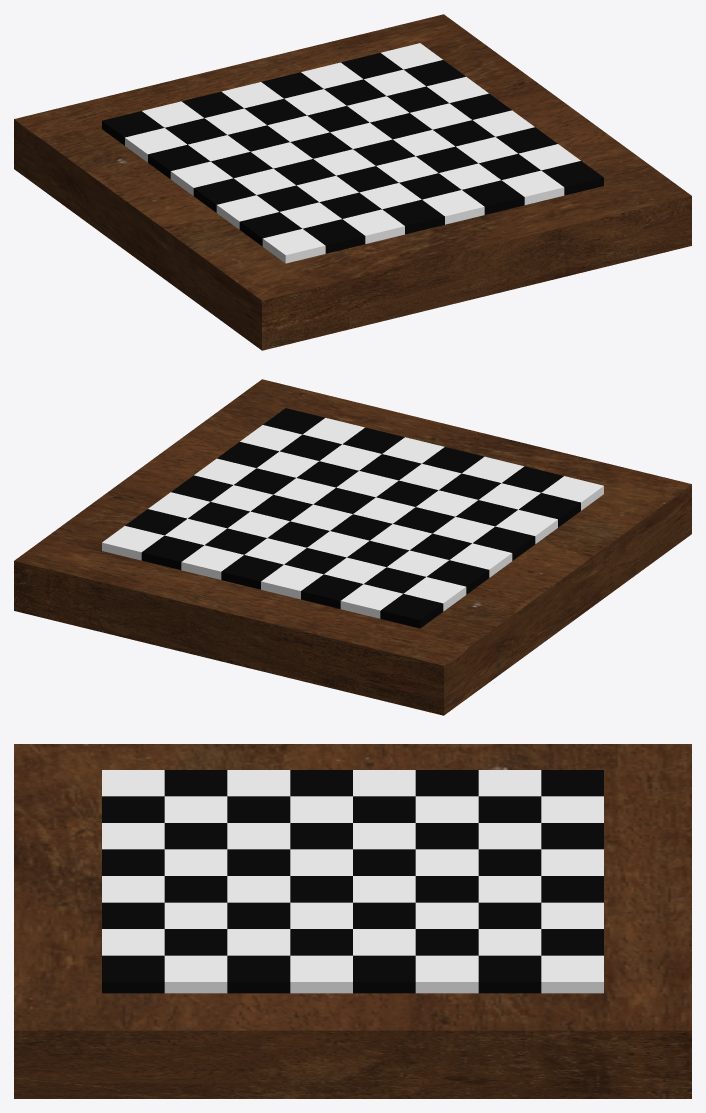
File: lison_chessboard.obj
3 renders of one model, top to bottom at view 1: azimuth 30°, elevation 25°; view 2: azimuth 150°, elevation 25°; view 3: azimuth 270°, elevation 25°, orthographic. The views are drawn at different scales.
Parts seen in each view (by area): view 1: Chessboard_Wood, Chessboard_case_noir, Chessboard_case_blanche; view 2: Chessboard_Wood, Chessboard_case_blanche, Chessboard_case_noir; view 3: Chessboard_Wood, Chessboard_case_noir, Chessboard_case_blanche.
Part boxes in pixels (x1,y1,x2,y2): Chessboard_Wood: (14,14,691,350); Chessboard_case_noir: (102,53,603,253); Chessboard_case_blanche: (125,43,580,263); Chessboard_Wood: (14,379,691,715); Chessboard_case_blanche: (102,418,603,618); Chessboard_case_noir: (125,408,580,628); Chessboard_Wood: (14,744,691,1098); Chessboard_case_noir: (102,770,603,993); Chessboard_case_blanche: (102,770,603,993).
Bounding box in the file's own units: 10.8 × 1.4 × 10.8.
